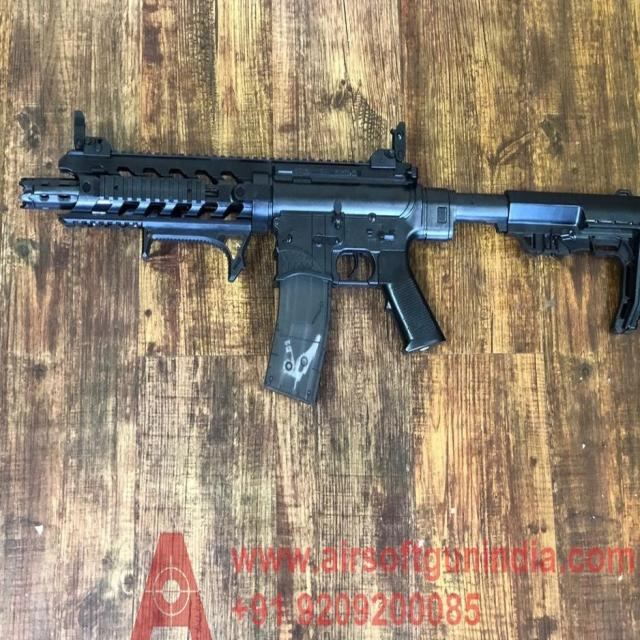Weapon: (20, 111, 640, 403)
